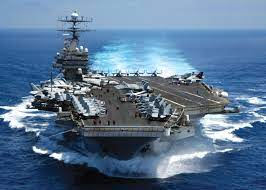Ship: (37, 21, 230, 161)
